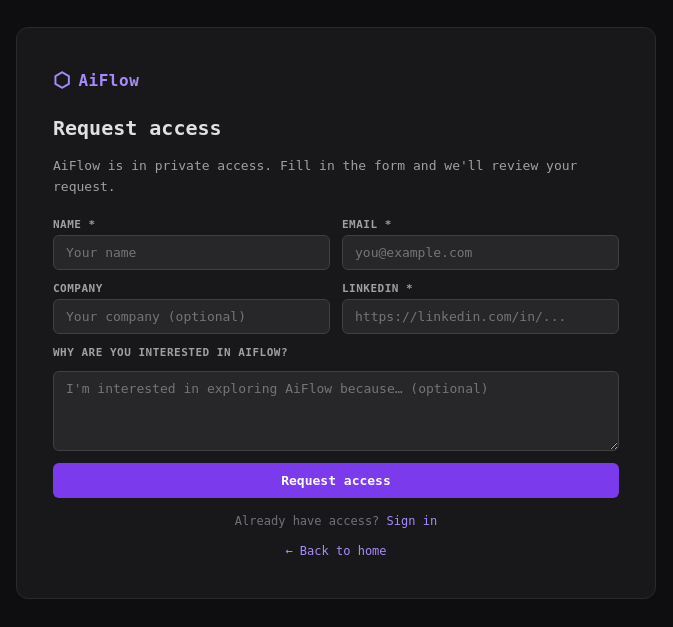
Test: RequestAccessPage › shows error message on failed submission
Step 1. Type "Alice Smith" into the field labelled "Name *" → (192, 252), box [53,235,330,270]
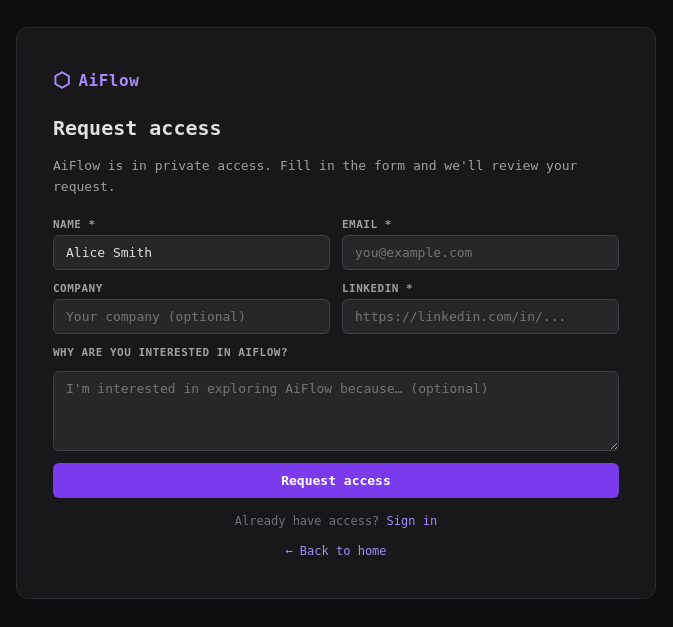
Step 2. Type "alice@example.com" into the field labelled "Email *" → (480, 252), box [342,235,619,270]
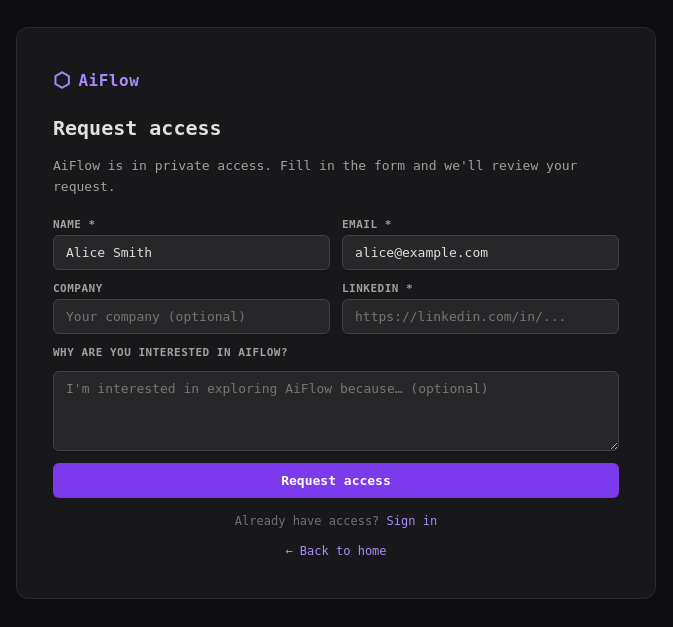
Step 3. Type "https://linkedin.com/in/alice" into the field labelled "LinkedIn *" → (480, 316), box [342,299,619,334]
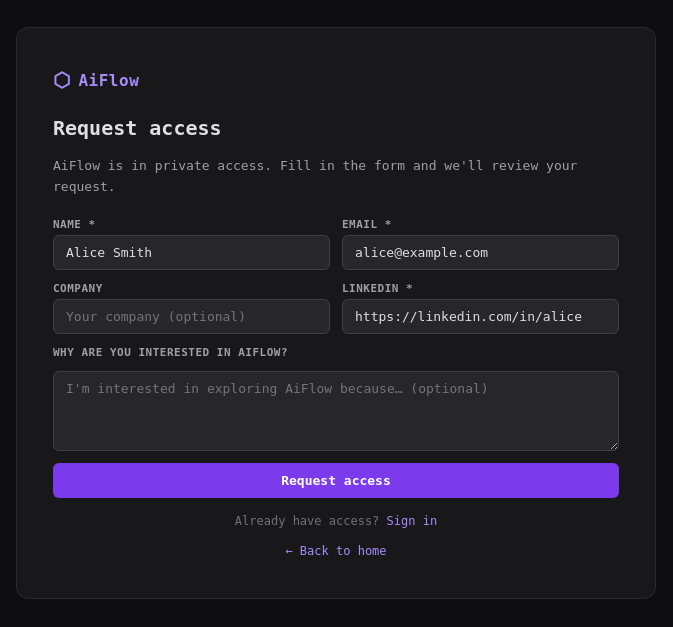
Step 4. Click the button "Request access" → (336, 480), box [53,463,619,498]
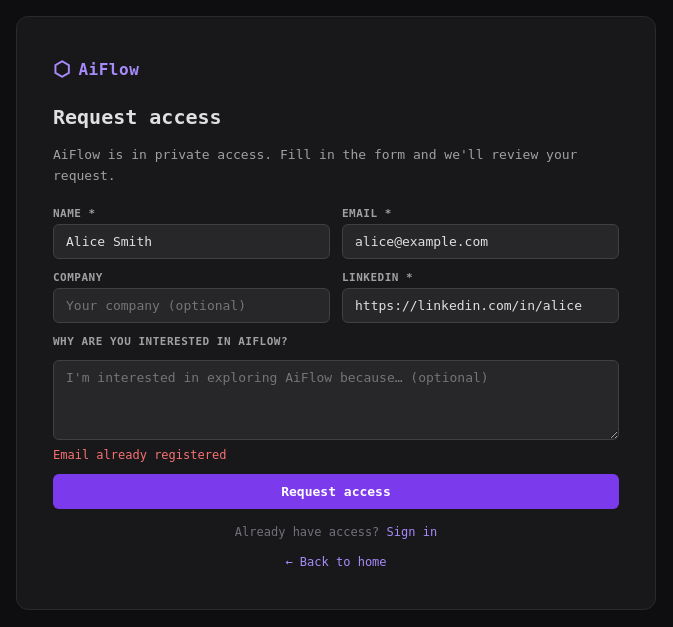
Expected: the text "Email already registered" is shown, [53,448,226,462]
